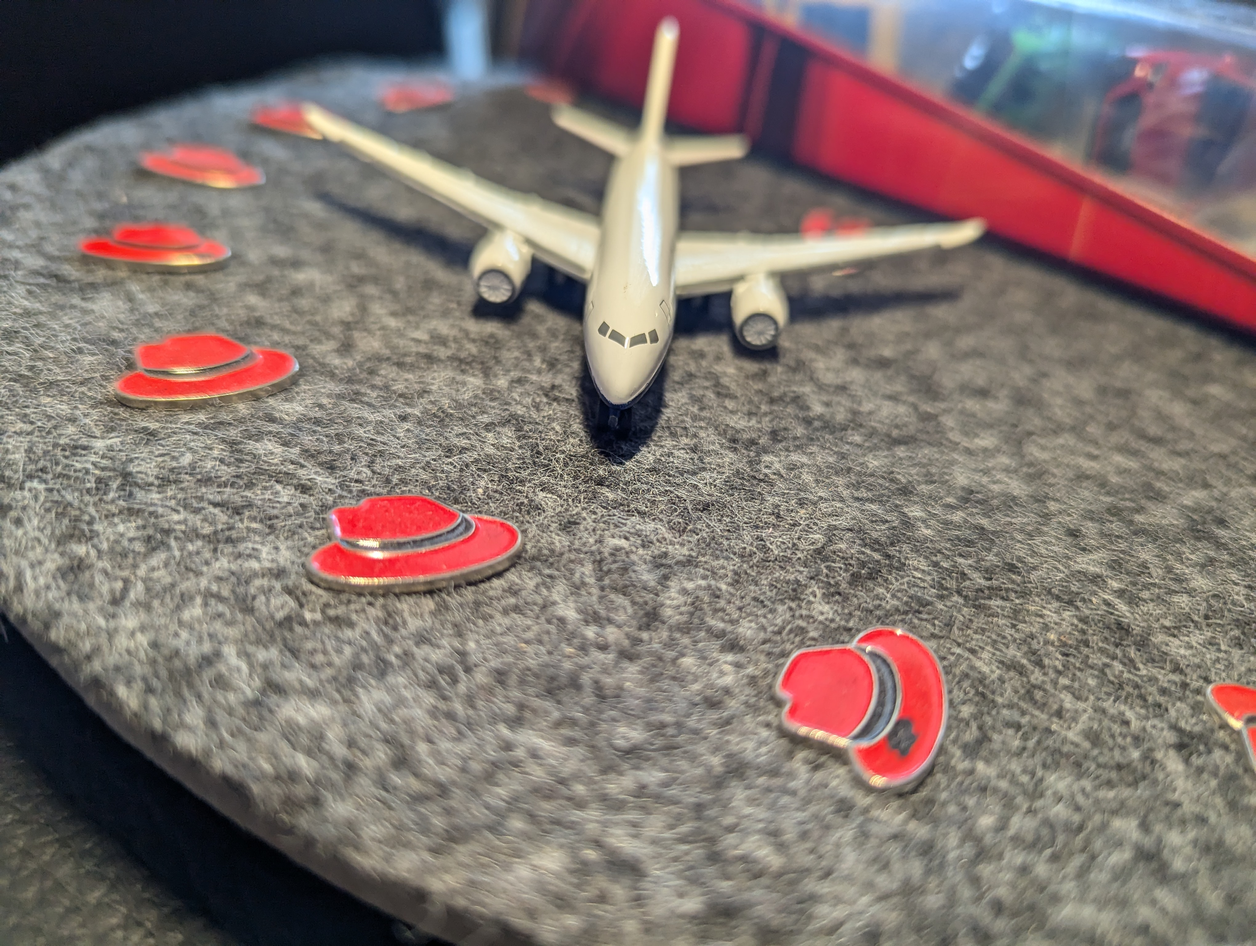Airplane: (284, 6, 1063, 433)
Red-Hat: (765, 588, 983, 812), (297, 467, 539, 617), (95, 321, 317, 418), (62, 200, 258, 283), (125, 131, 278, 196)
Scratch: (881, 712, 931, 761), (170, 247, 215, 269)
